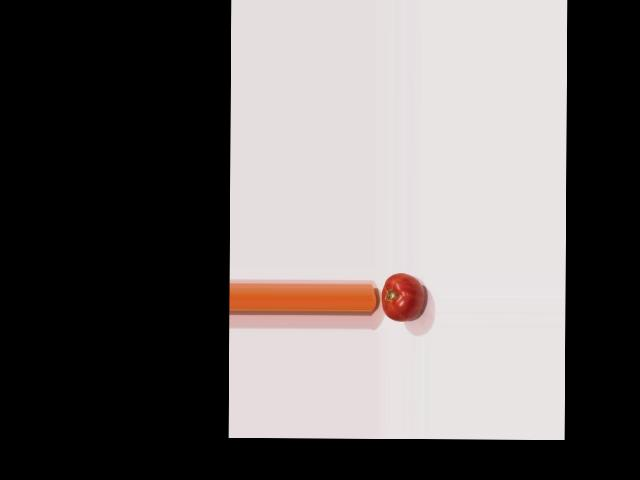tomato: (382, 272, 424, 321)
